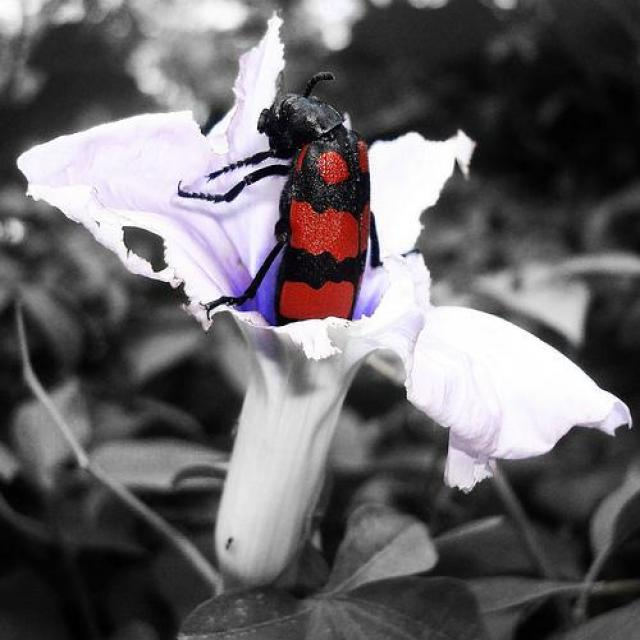BlisterBeetle-Adult-: (182, 57, 390, 338)
